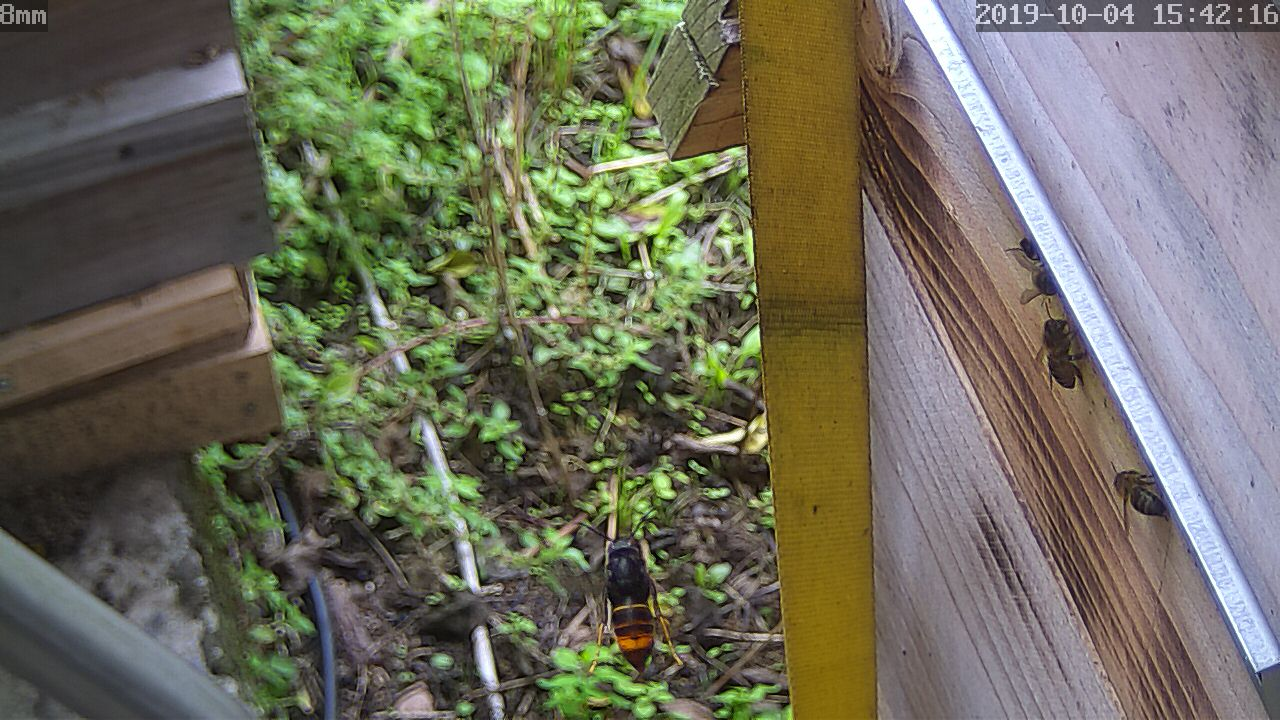bee: (1024, 302, 1088, 391), (1106, 460, 1171, 528)
hornet: (582, 530, 677, 670)
